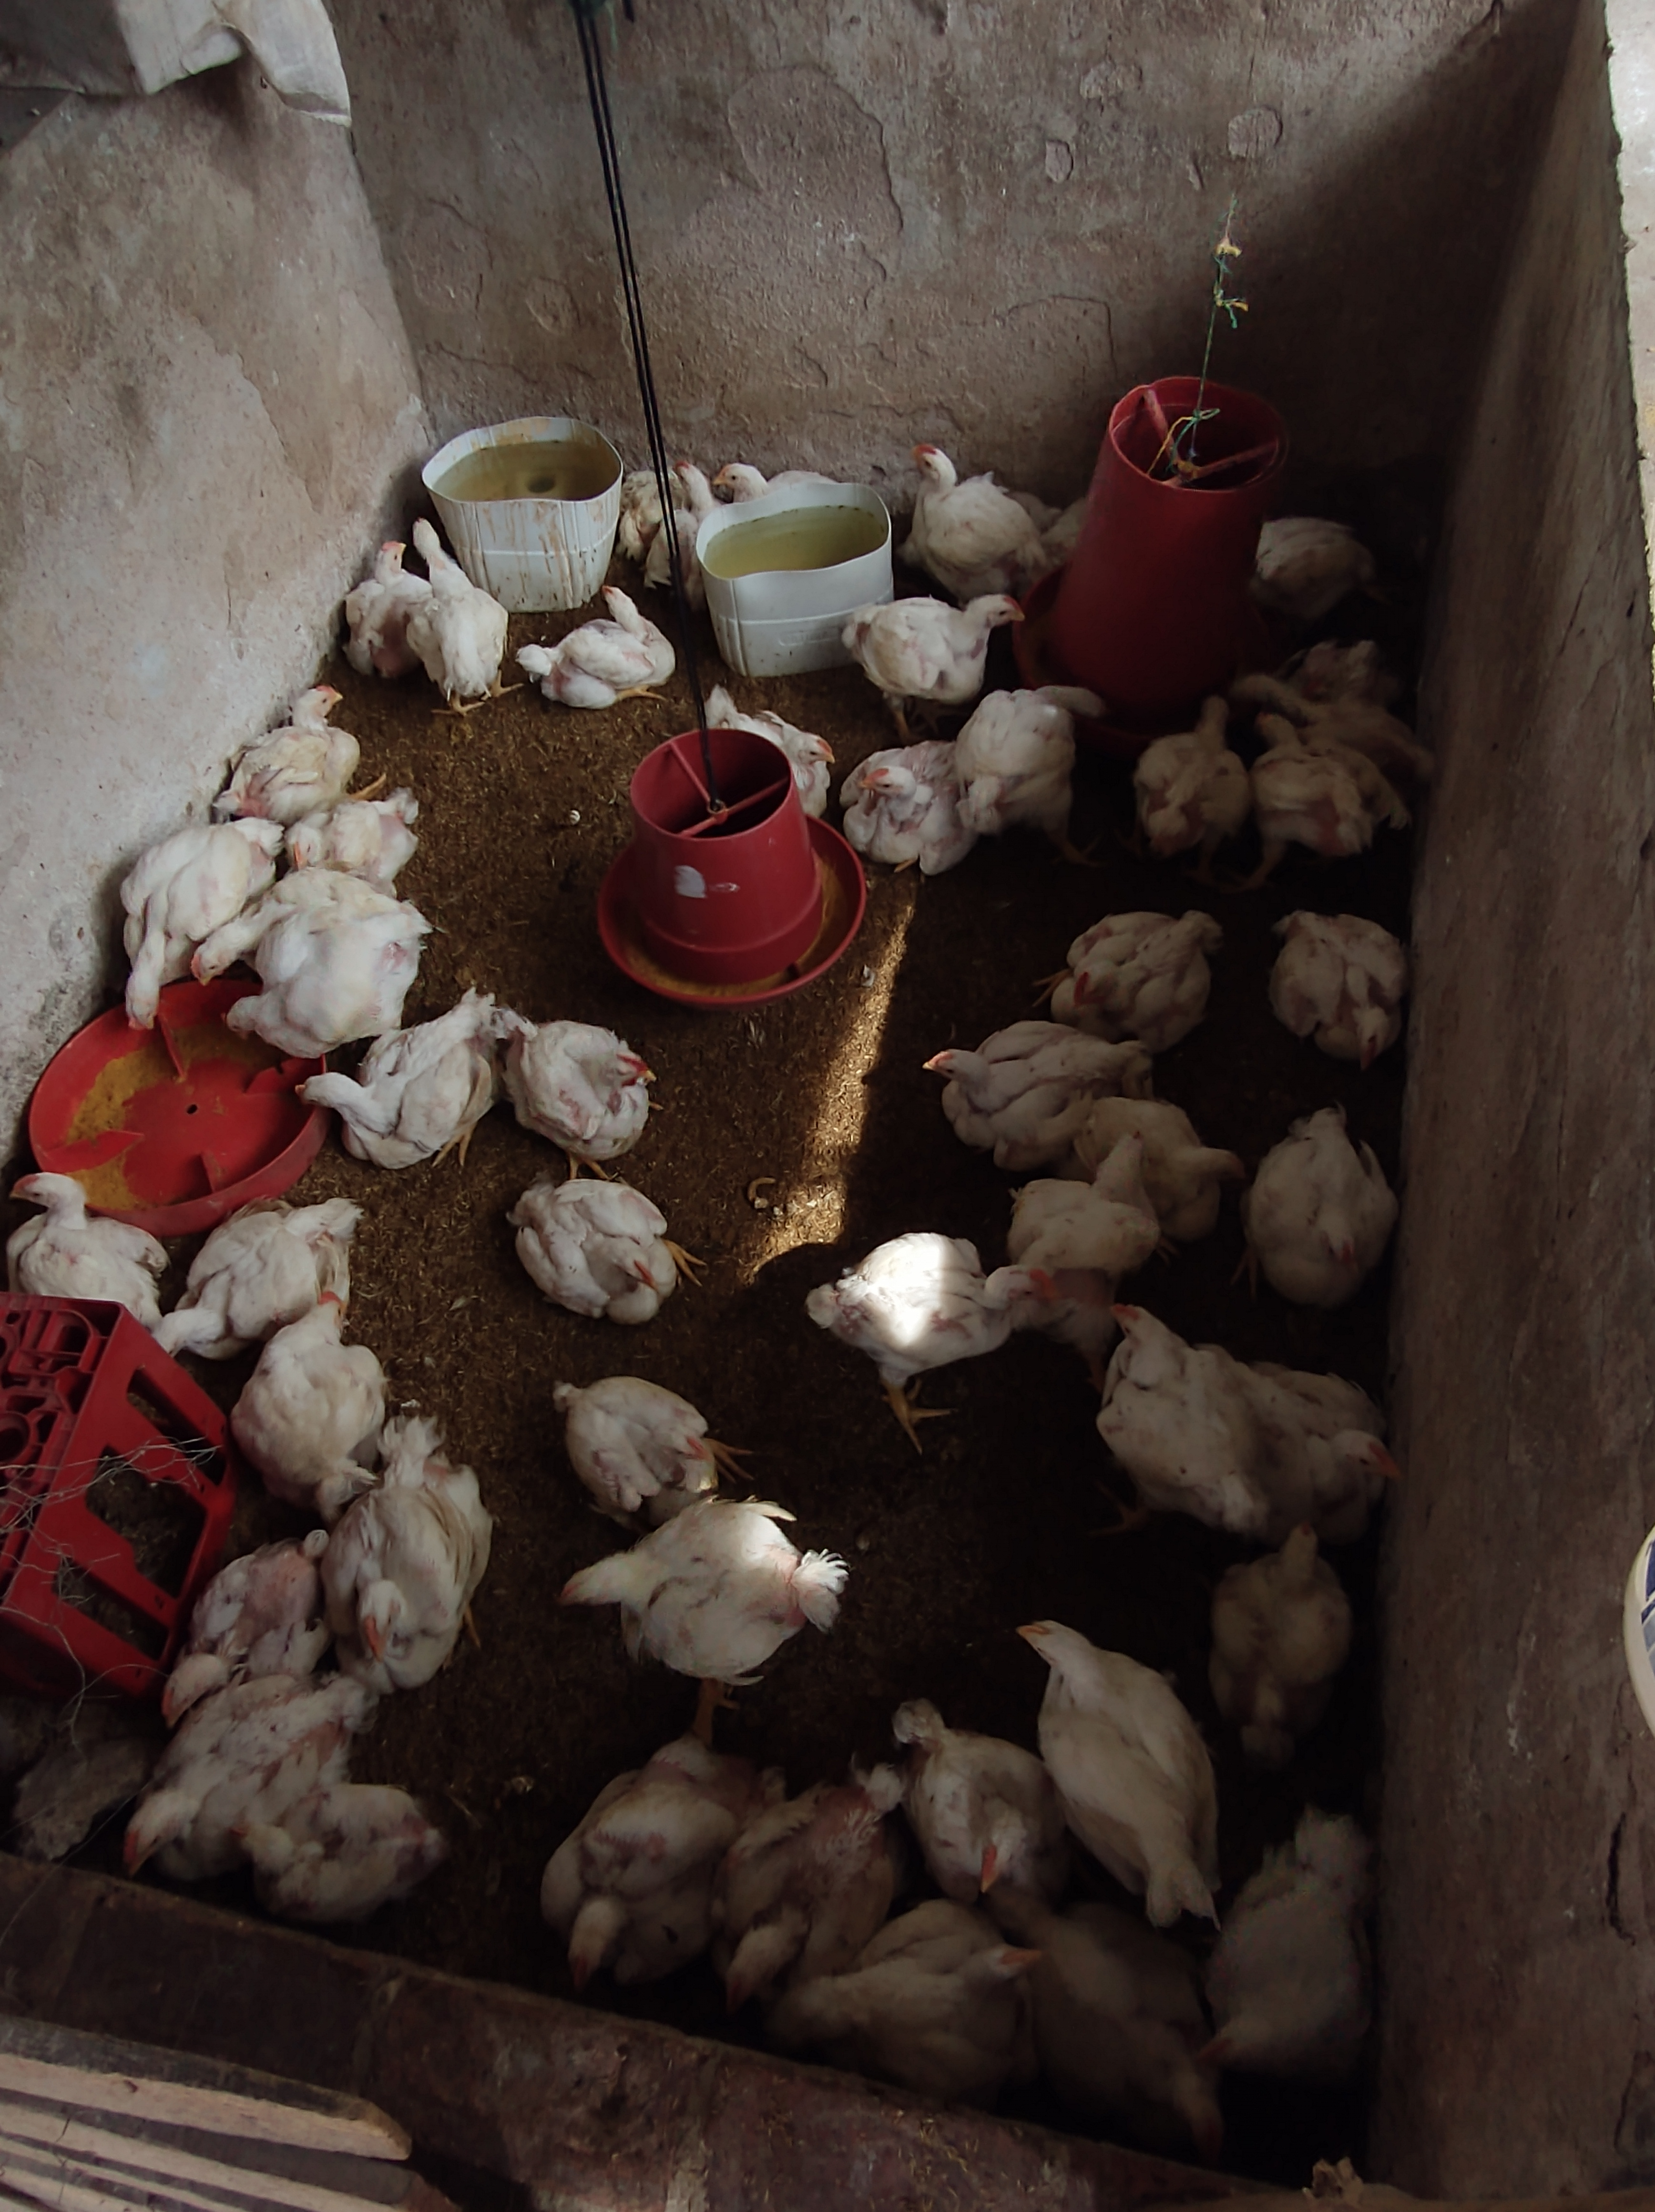Pollos: (555, 1504, 852, 1666), (1200, 1817, 1377, 2068), (541, 1777, 748, 1984), (289, 1014, 504, 1169), (153, 1191, 355, 1353), (725, 1796, 876, 2009), (1208, 1520, 1356, 1736), (869, 1909, 1047, 2080), (829, 1228, 1060, 1356), (1262, 1115, 1399, 1318), (228, 915, 440, 1045), (339, 1471, 468, 1675), (148, 1555, 301, 1723), (1109, 1299, 1252, 1476), (1020, 1617, 1193, 1762), (509, 1177, 676, 1320), (956, 682, 1113, 829), (923, 1021, 1081, 1163), (1052, 897, 1217, 1028), (909, 1739, 1041, 1894), (509, 1016, 655, 1153), (565, 1374, 727, 1497), (1281, 911, 1410, 1066), (252, 1292, 372, 1457), (216, 1803, 389, 1911), (412, 516, 515, 690), (1257, 715, 1386, 852), (224, 683, 356, 816), (847, 591, 1027, 687), (897, 436, 1022, 569), (544, 583, 676, 706), (1267, 1384, 1401, 1506), (1031, 1129, 1154, 1259), (289, 777, 429, 883), (5, 1172, 129, 1292), (116, 829, 186, 1035), (1151, 689, 1241, 842), (1161, 1108, 1267, 1229), (120, 1751, 223, 1876), (857, 739, 947, 836), (186, 899, 278, 991), (344, 543, 415, 652), (711, 459, 824, 506), (761, 713, 833, 783)
